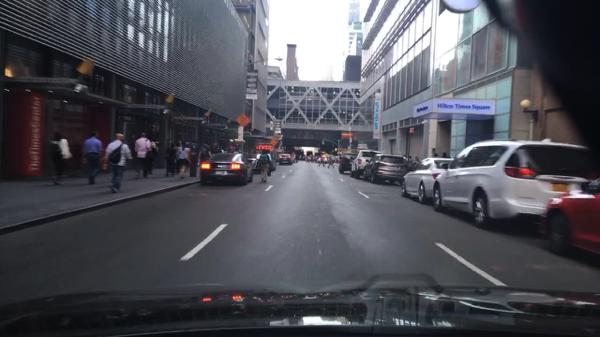car: (433, 140, 597, 229), (542, 179, 598, 259), (399, 157, 456, 204), (198, 150, 253, 186), (362, 154, 408, 184), (349, 150, 383, 179), (337, 152, 358, 174), (257, 153, 276, 173), (248, 158, 263, 173), (279, 154, 293, 166), (314, 153, 322, 161), (323, 154, 332, 161), (291, 154, 297, 162), (333, 156, 339, 163), (304, 154, 308, 163), (300, 153, 303, 162)
person: (102, 132, 132, 195), (82, 130, 101, 191), (51, 132, 70, 187), (136, 133, 151, 183), (165, 142, 176, 178), (258, 150, 268, 182), (179, 140, 187, 179), (200, 139, 212, 162), (190, 145, 198, 178), (317, 152, 326, 168), (176, 140, 180, 175), (186, 145, 191, 162), (327, 155, 333, 169), (213, 142, 220, 153), (228, 145, 235, 154), (332, 156, 339, 165), (441, 152, 449, 159), (309, 154, 314, 165), (236, 146, 242, 154), (306, 154, 310, 165), (218, 146, 224, 153), (414, 155, 420, 162), (337, 152, 342, 160), (295, 155, 299, 164), (291, 154, 295, 163), (408, 155, 413, 162), (315, 155, 319, 163), (403, 152, 407, 160), (433, 152, 439, 157)
